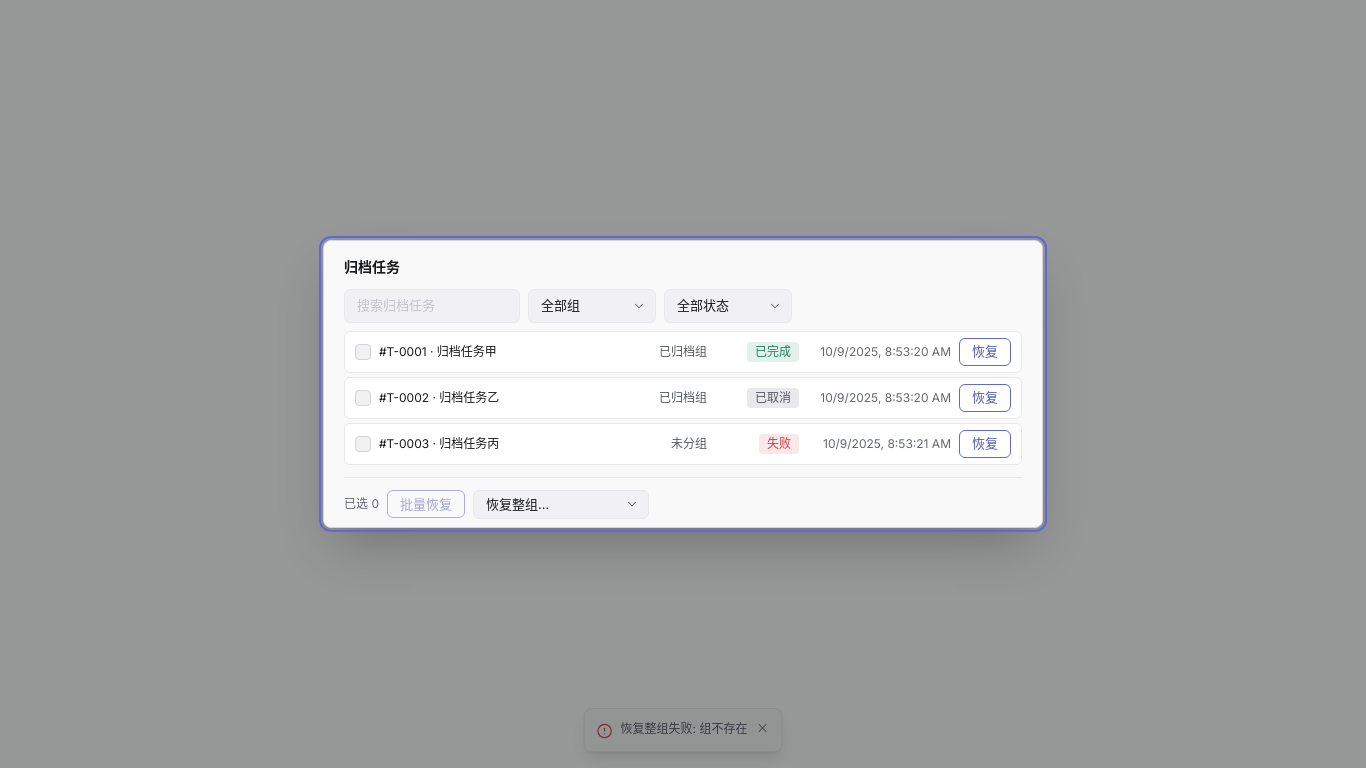
Test case: ArchivePanel › 过滤：搜索框命中标题、组 select、状态 select 三维 AND 叠加
The width and height of the screenshot is (1366, 768).
Expected: the text "#T-0001 · 归档任务甲" is shown, [379,344,497,358]
搜索：只留「乙」
Type "乙" into the field labelled "搜索归档任务".
click(432, 306); type("乙")  # box [344,289,520,322]
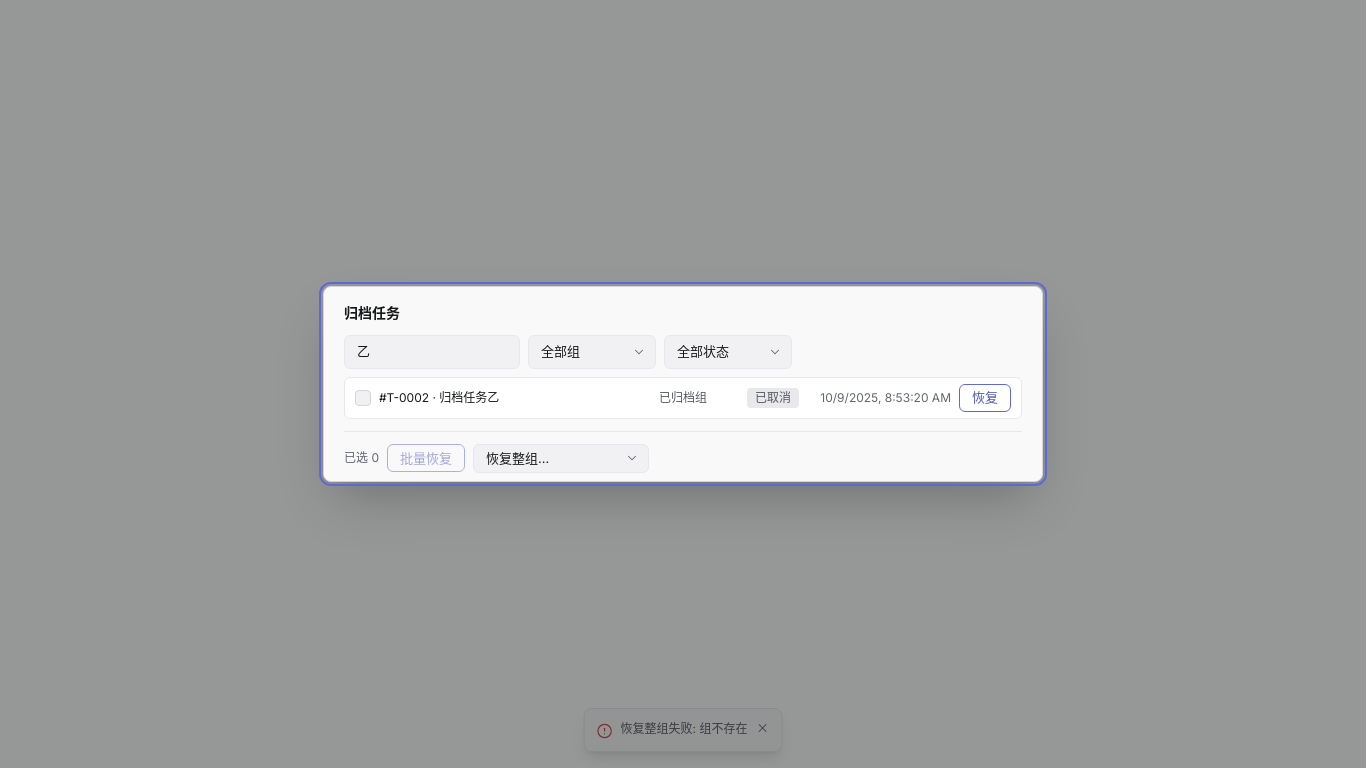
Expected: the text "#T-0002 · 归档任务乙" is shown, [379,390,499,404]
Expected: the text "归档任务甲" is gone
清空搜索 → 组过滤 g-1 只留甲乙
Clear the field named "搜索归档任务" at (432, 352), box [344,335,520,368]
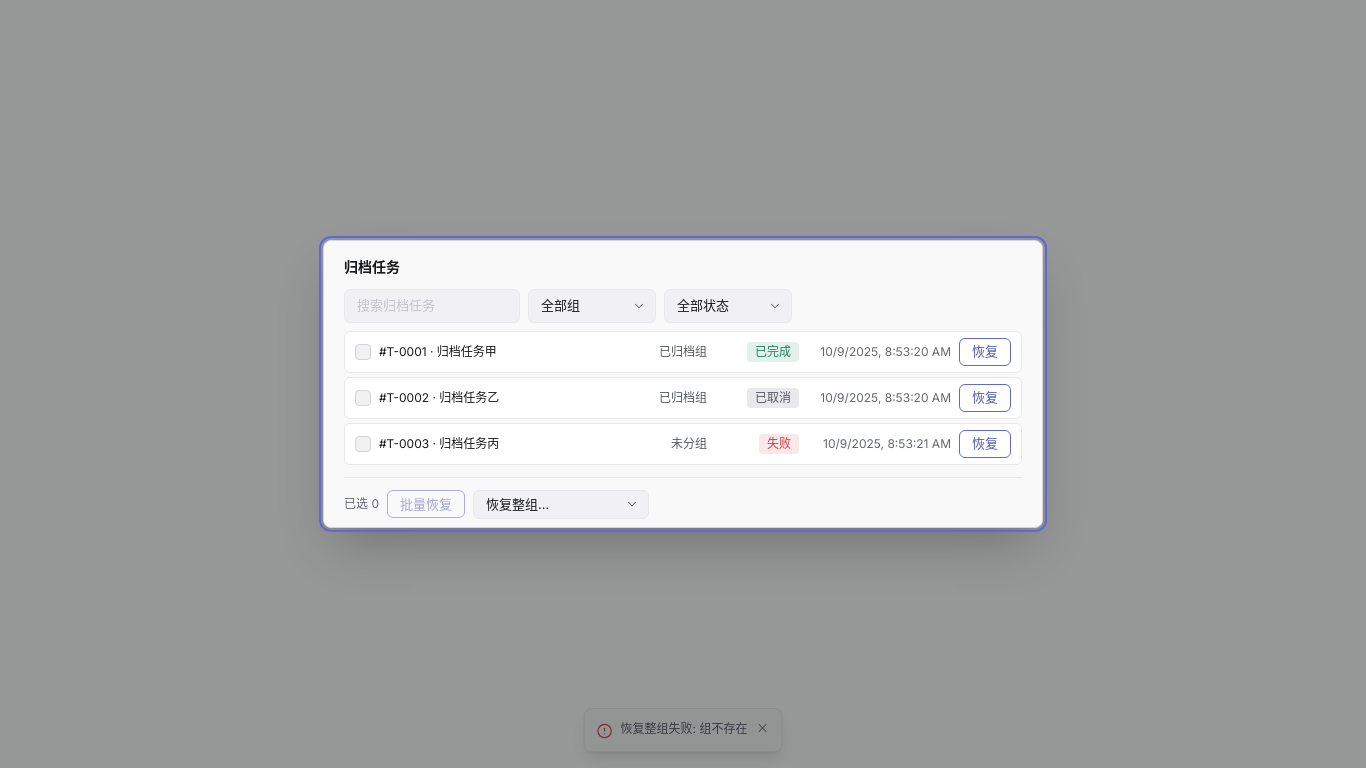
Select "已归档组" in the dropdown named "按组过滤" at (592, 306), box [528,289,656,322]
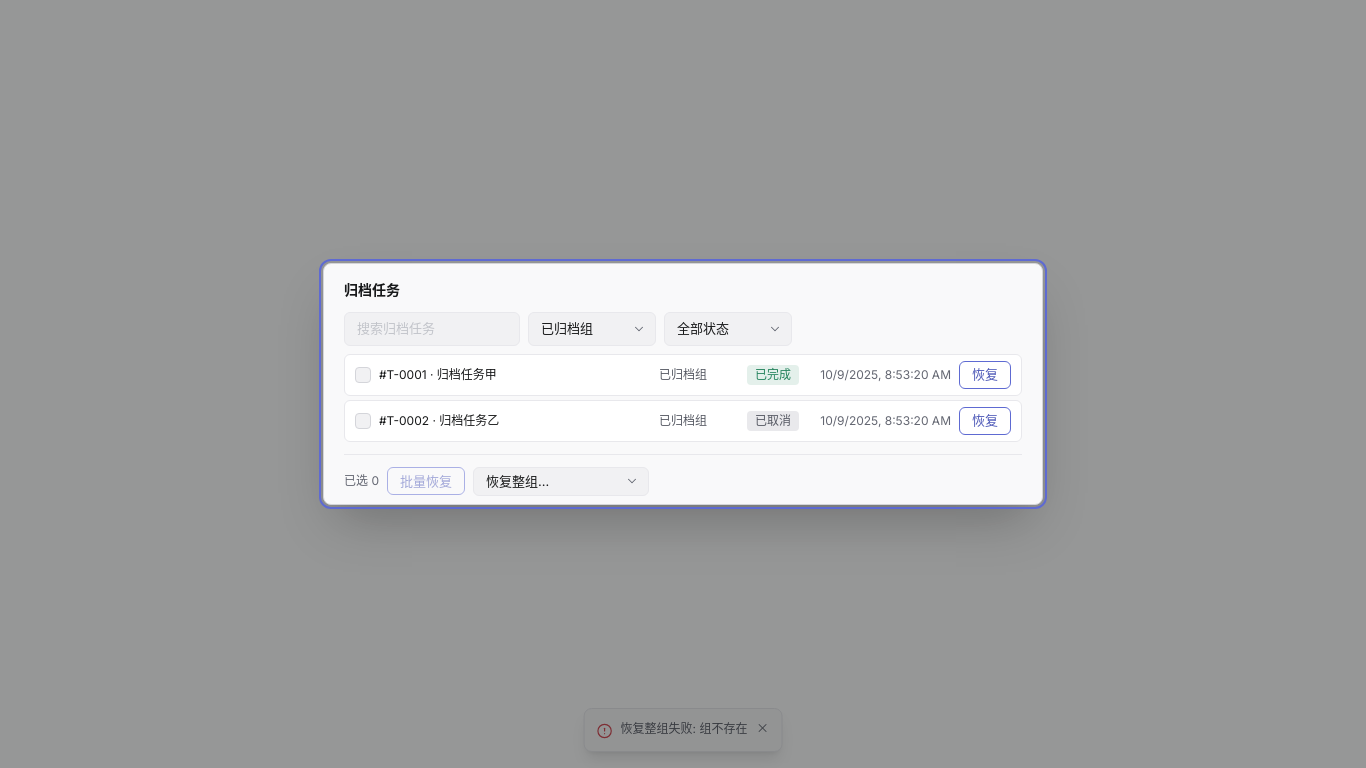
Expected: the text "归档任务丙" is gone
叠加状态过滤 failed → 空（g-1 内无 failed）
Select "失败" in the dropdown named "按状态过滤" at (728, 329), box [664,312,792,346]
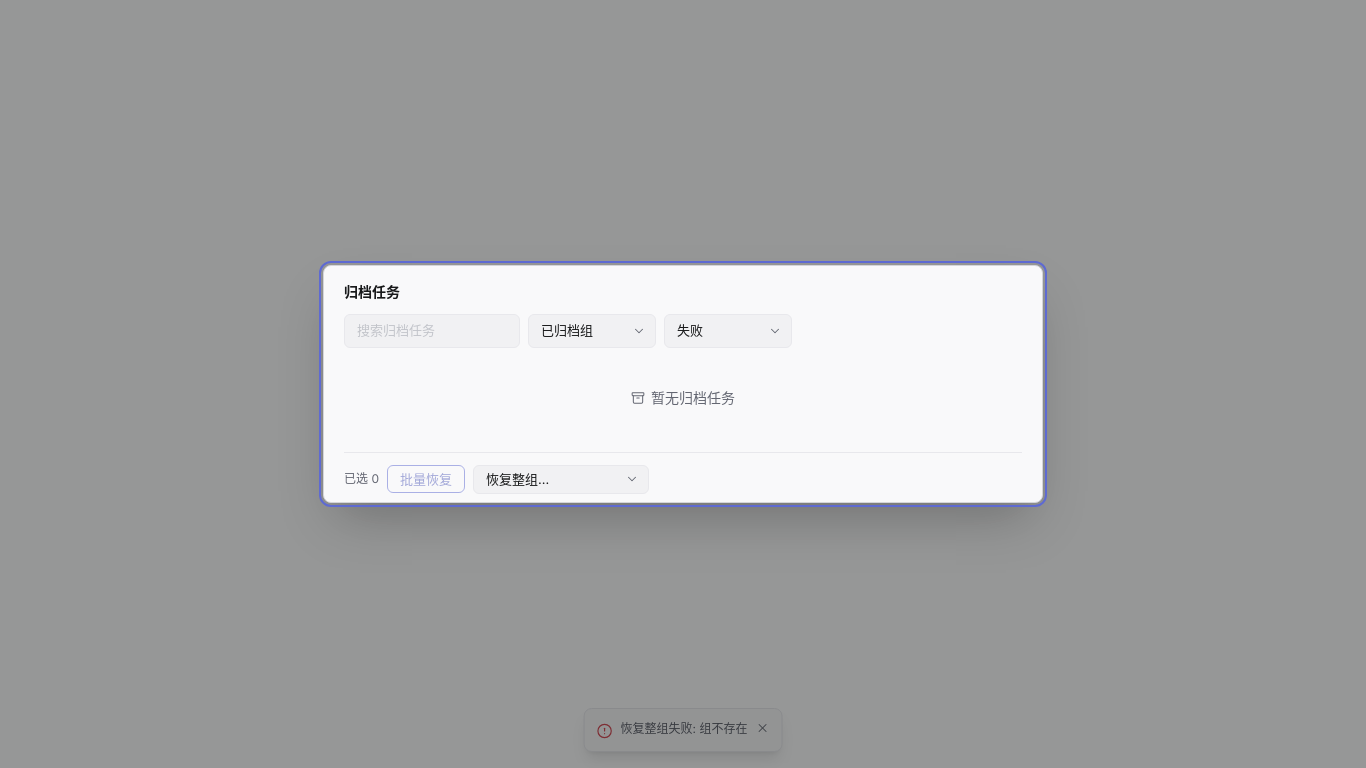
Expected: the text "归档任务甲" is gone
Expected: the text "归档任务乙" is gone
